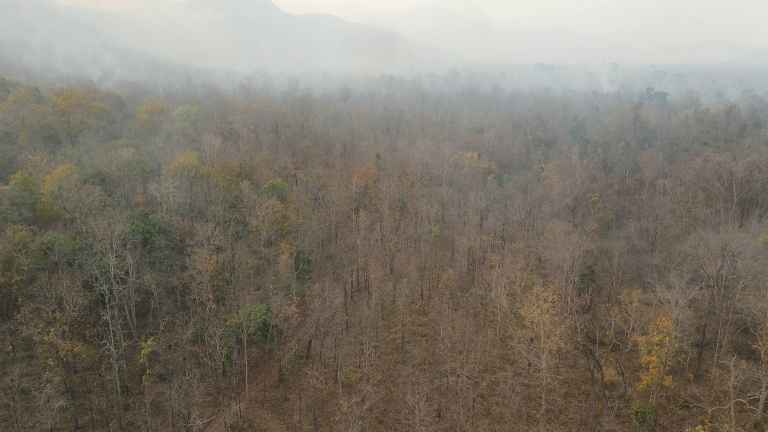smoke: (3, 1, 768, 101)
